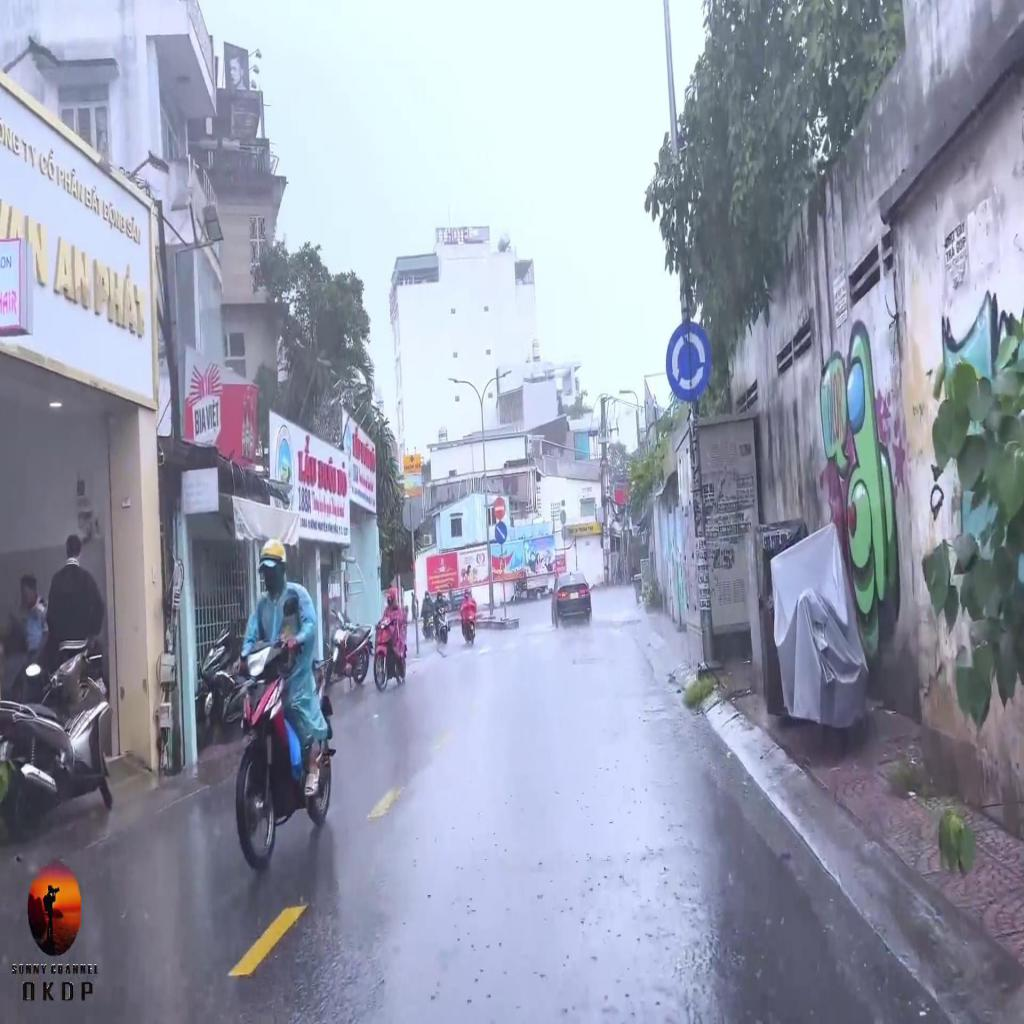cam_xe_di_nguoc_chieu: (494, 494, 508, 520)
huong_phai_di_vuot_chuong_ngai_vat_phai: (496, 522, 506, 544)
noi_giao_nhau_chay_theo_vong: (666, 319, 711, 402)
